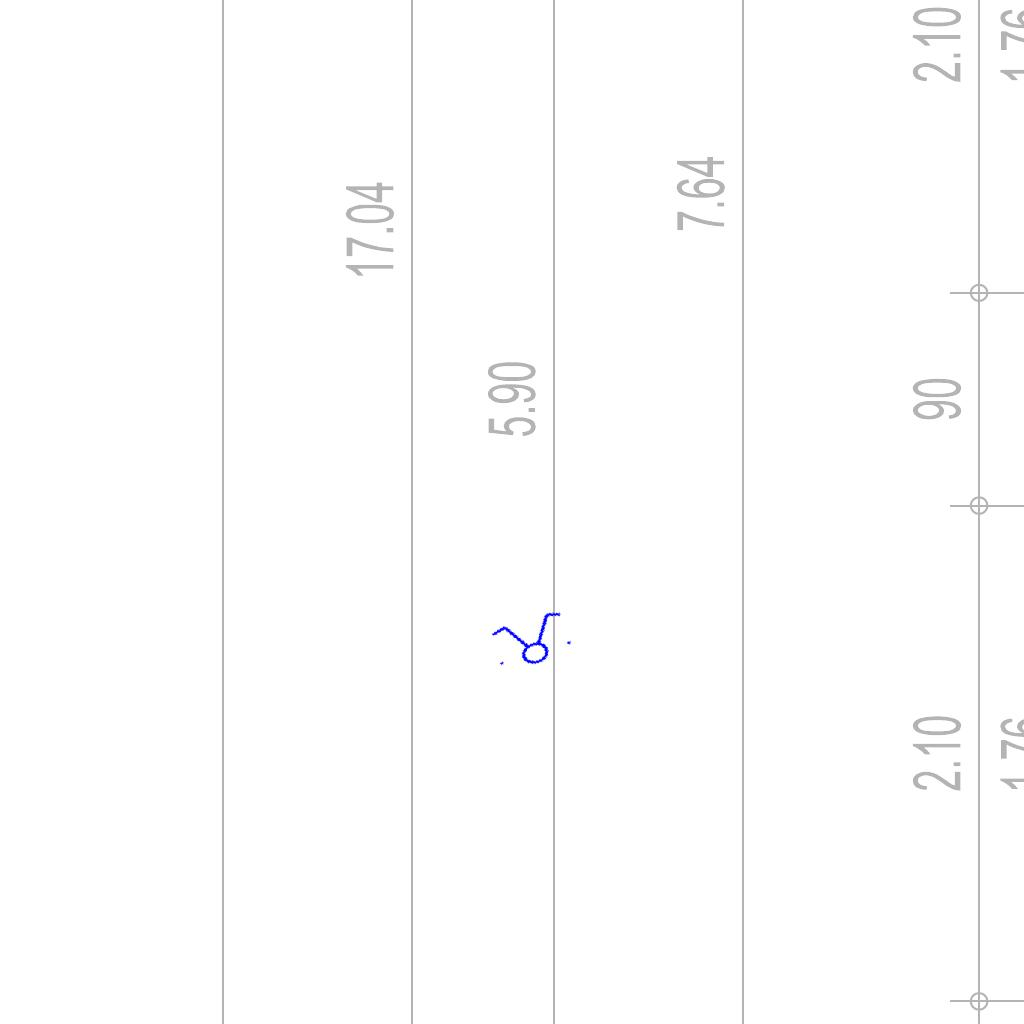Serienschalter: (483, 605, 579, 677)
